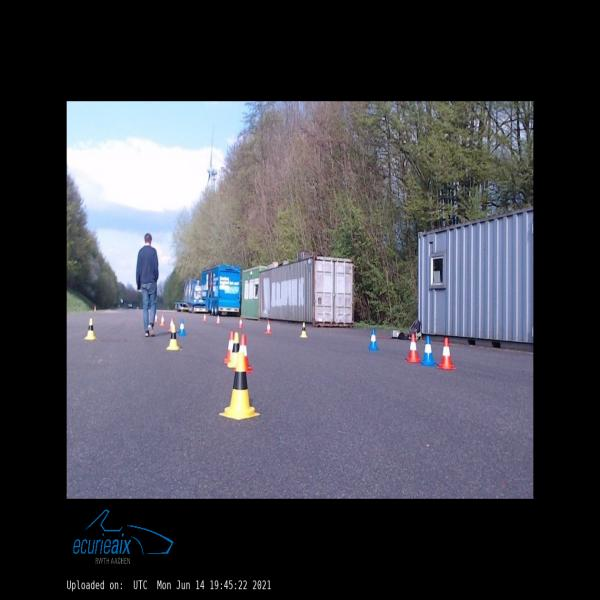blue_cone: (422, 336, 436, 366), (368, 328, 378, 351), (178, 319, 186, 336)
orange_cone: (233, 334, 252, 372), (437, 338, 455, 369), (406, 334, 420, 363), (224, 331, 234, 364), (265, 320, 272, 334), (168, 317, 173, 331), (238, 317, 244, 328), (160, 314, 165, 326), (216, 315, 220, 323), (155, 312, 158, 322), (204, 314, 206, 321)
yellow_cone: (219, 353, 260, 419), (227, 333, 239, 367), (166, 324, 179, 350), (84, 318, 96, 340), (300, 323, 308, 338)
